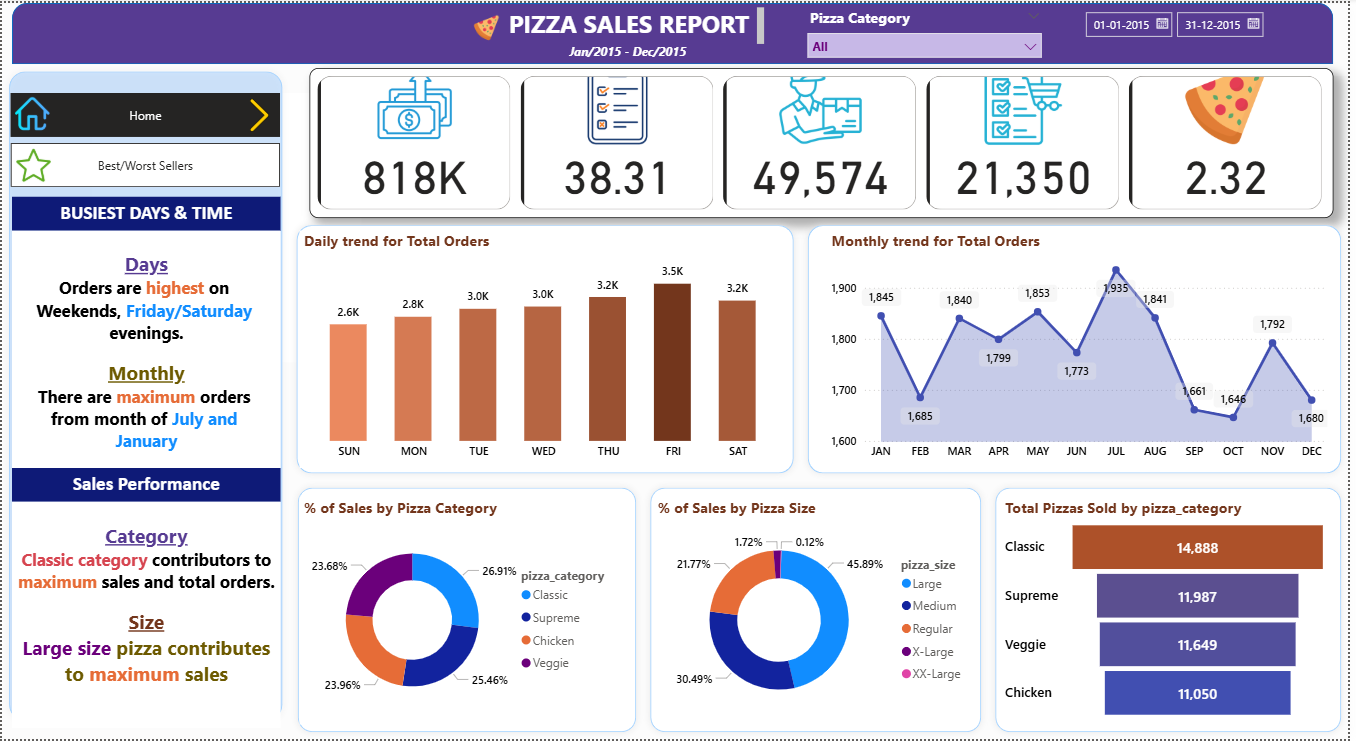

What the dashboard file says about the page in this screenshot:
{"tool":"powerbi","page":{"name":"Home","canvas":[1500,820],"ordinal":0},"visuals":[{"type":"textbox","box":[100,100,300,300],"z":0},{"type":"shape","box":[0,68.2,320.3,739.5],"z":1000},{"type":"cardVisual","fields":{"Data":["public pizza_salse.Total Revenue","public pizza_salse.Avg Order Value","public pizza_salse.Total Pizzas Sold","public pizza_salse.Total Orders","public pizza_salse.Avg pizzas per order"]},"box":[342.6,72.4,1140.6,167.1],"z":2000},{"type":"shape","box":[11.1,0,1472.1,68.2],"z":3000},{"type":"textbox","box":[551.2,0,302.5,56.2],"z":4000},{"type":"textbox","box":[626.2,40,151.2,32.5],"z":5000},{"type":"image","box":[517.5,8.8,43.8,38.8],"z":6000},{"type":"shape","box":[320.3,239.5,569.6,292.5],"z":7000},{"type":"columnChart","title":"Daily trend for Total Orders","fields":{"Y":["public pizza_salse.Total Orders"],"Category":["public pizza_salse.Order Day"]},"box":[331.5,253.5,544.5,264.6],"z":8000},{"type":"shape","box":[889.9,239.5,610,292.5],"z":9000},{"type":"areaChart","title":"Monthly trend for Total Orders","fields":{"Y":["public pizza_salse.Total Orders"],"Category":["public pizza_salse.Order Month"]},"box":[919.2,253.5,562.6,264.6],"z":10000},{"type":"textbox","box":[11.1,253.5,299.4,264.6],"z":11000},{"type":"shape","box":[321.7,532,392.7,288.3],"z":12000},{"type":"shape","box":[1098.8,532,401.1,288.3],"z":13000},{"type":"shape","box":[714.4,532,384.4,288.3],"z":14000},{"type":"donutChart","title":"% of Sales by Pizza Category","fields":{"Category":["public pizza_salse.pizza_category"],"Y":["public pizza_salse.Total Revenue"]},"box":[331.5,550.1,360.7,253.5],"z":15000},{"type":"donutChart","title":"% of Sales by Pizza Size","fields":{"Y":["public pizza_salse.Total Revenue"],"Category":["public pizza_salse.pizza_size"]},"box":[725.6,550.1,360.7,253.5],"z":16000},{"type":"funnel","fields":{"Category":["public pizza_salse.pizza_category"],"Y":["public pizza_salse.Total Pizzas Sold"]},"box":[1112.7,550.1,369.1,253.5],"z":17000},{"type":"textbox","box":[11.1,215.9,299.4,37.6],"z":18000},{"type":"textbox","box":[11.1,518.1,299.4,37.6],"z":19000},{"type":"textbox","box":[11.1,555.7,299.4,252.1],"z":20000},{"type":"slicer","fields":{"Values":["public pizza_salse.pizza_category"]},"box":[887.1,0,281.3,68.2],"z":21000},{"type":"slicer","fields":{"Values":["public pizza_salse.order_date"]},"box":[1194.9,0,271.6,68.2],"z":22000},{"type":"pageNavigator","box":[10.3,100,300,50],"z":23000},{"type":"pageNavigator","box":[10.3,155.9,300,50],"z":24000},{"type":"image","box":[263.2,100,47.1,50],"z":25000},{"type":"image","box":[10.3,95.6,48.5,54.4],"z":26000},{"type":"image","box":[11.8,155.9,48.5,50],"z":27000}]}

Visuals, with their boxes in screenshot pixels (x1, y1, x2, y2), scaled from the page's 1500x820 canvas onto the 1356x741 screenshot:
textbox: (90,90,362,361)
shape: (0,62,290,730)
cardVisual - public pizza_salse.Total Revenue x public pizza_salse.Avg Order Value: (310,65,1341,216)
shape: (10,0,1341,62)
textbox: (498,0,772,51)
textbox: (566,36,703,66)
image: (468,8,507,43)
shape: (290,216,804,481)
"Daily trend for Total Orders" columnChart: (300,229,792,468)
shape: (804,216,1355,481)
"Monthly trend for Total Orders" areaChart: (831,229,1340,468)
textbox: (10,229,281,468)
shape: (291,481,646,740)
shape: (993,481,1355,740)
shape: (646,481,993,740)
"% of Sales by Pizza Category" donutChart: (300,497,626,726)
"% of Sales by Pizza Size" donutChart: (656,497,982,726)
funnel - public pizza_salse.pizza_category x public pizza_salse.Total Pizzas Sold: (1006,497,1340,726)
textbox: (10,195,281,229)
textbox: (10,468,281,502)
textbox: (10,502,281,730)
slicer - public pizza_salse.pizza_category: (802,0,1056,62)
slicer - public pizza_salse.order_date: (1080,0,1326,62)
pageNavigator: (9,90,281,136)
pageNavigator: (9,141,281,186)
image: (238,90,281,136)
image: (9,86,53,136)
image: (11,141,55,186)
